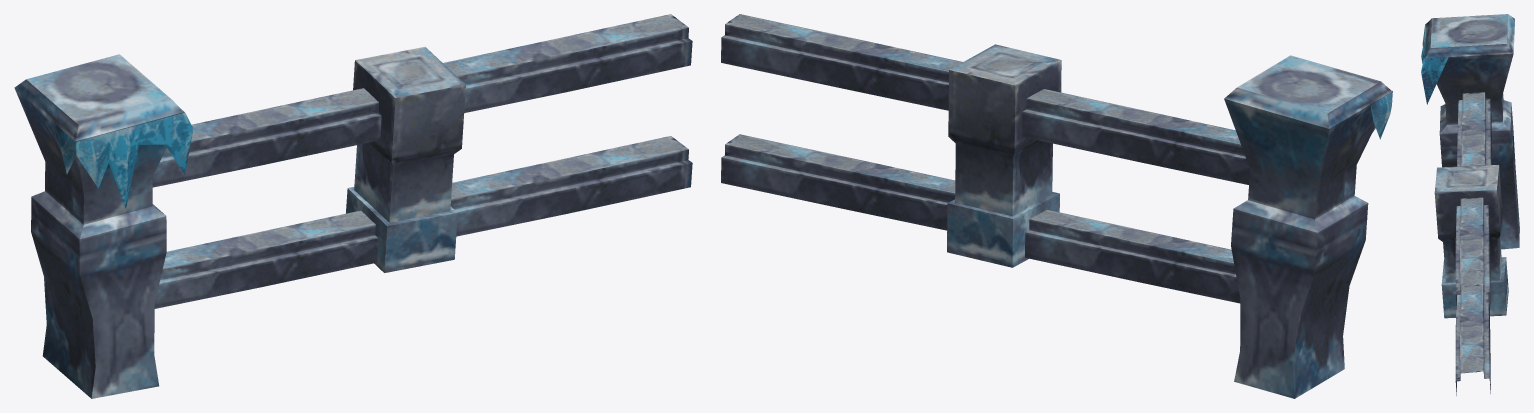
File: bs_zhalan_1.FBX
The picture shows the model from 3 angles, left to right: view 1: azimuth 30°, elevation 25°; view 2: azimuth 150°, elevation 25°; view 3: azimuth 270°, elevation 25°; orthographic projection. The views are drawn at different scales.
Parts seen in each view (by area): view 1: bs_zhalan_1; view 2: bs_zhalan_1; view 3: bs_zhalan_1.
Part boxes in pixels (bbox=[...]): bs_zhalan_1: bbox=[14, 14, 692, 398]; bs_zhalan_1: bbox=[721, 14, 1392, 398]; bs_zhalan_1: bbox=[1421, 14, 1519, 395].
Bounding box in the file's own units: 205 × 91.08 × 38.47.
